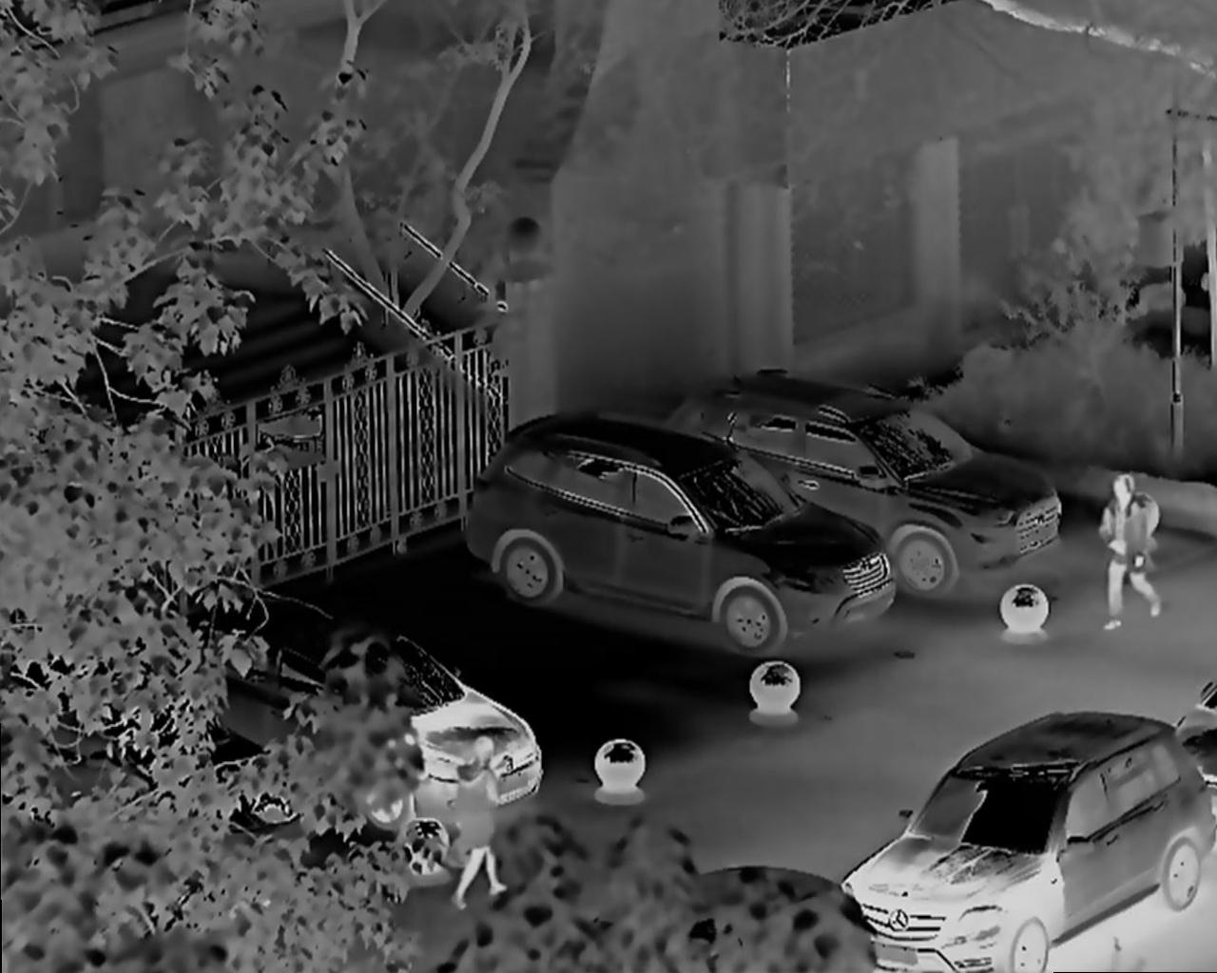person: (1095, 476, 1162, 636), (460, 735, 525, 899)
